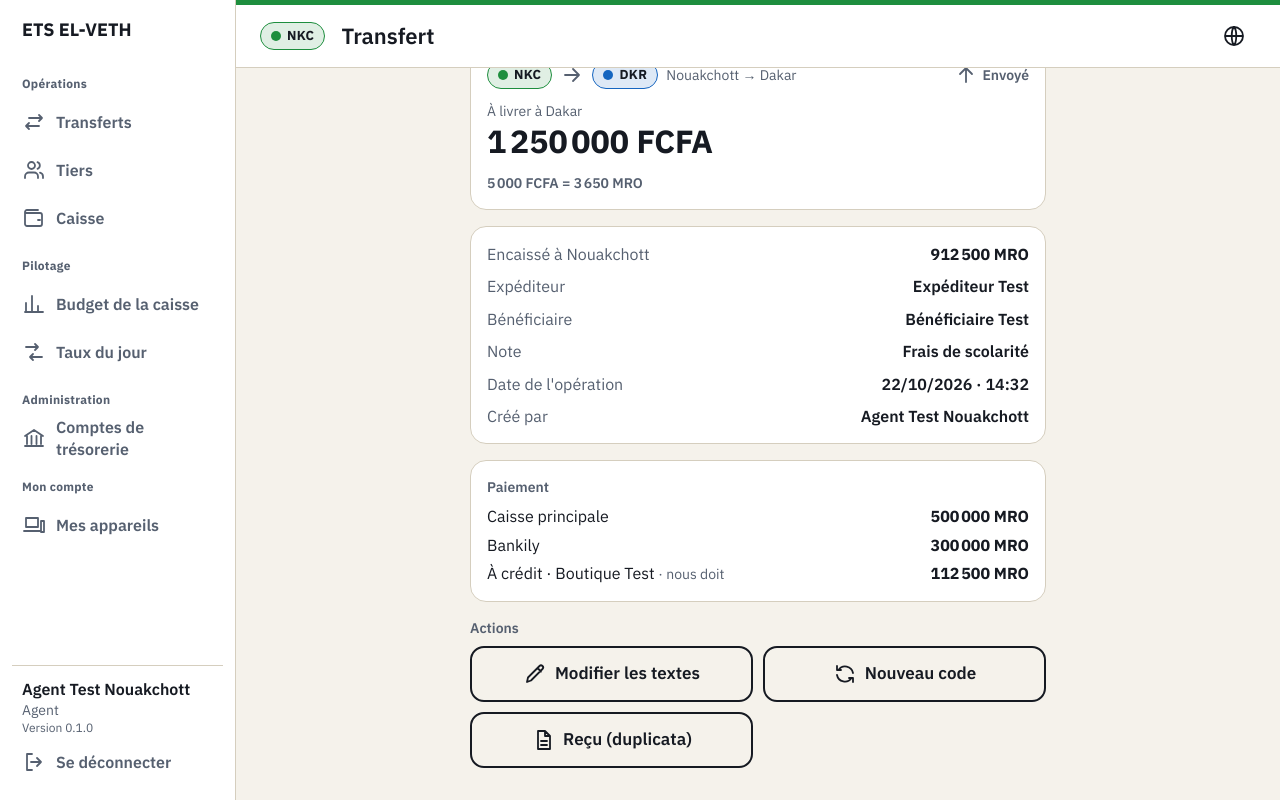
Test: Fiche d’un transfert — Agent de l’agence d’envoi › envoie le duplicata du reçu, sans code
The width and height of the screenshot is (1280, 800).
(page scrolled)
Click the button "Reçu (duplicata)" at (612, 740), box [470,712,753,768]
(page scrolled)
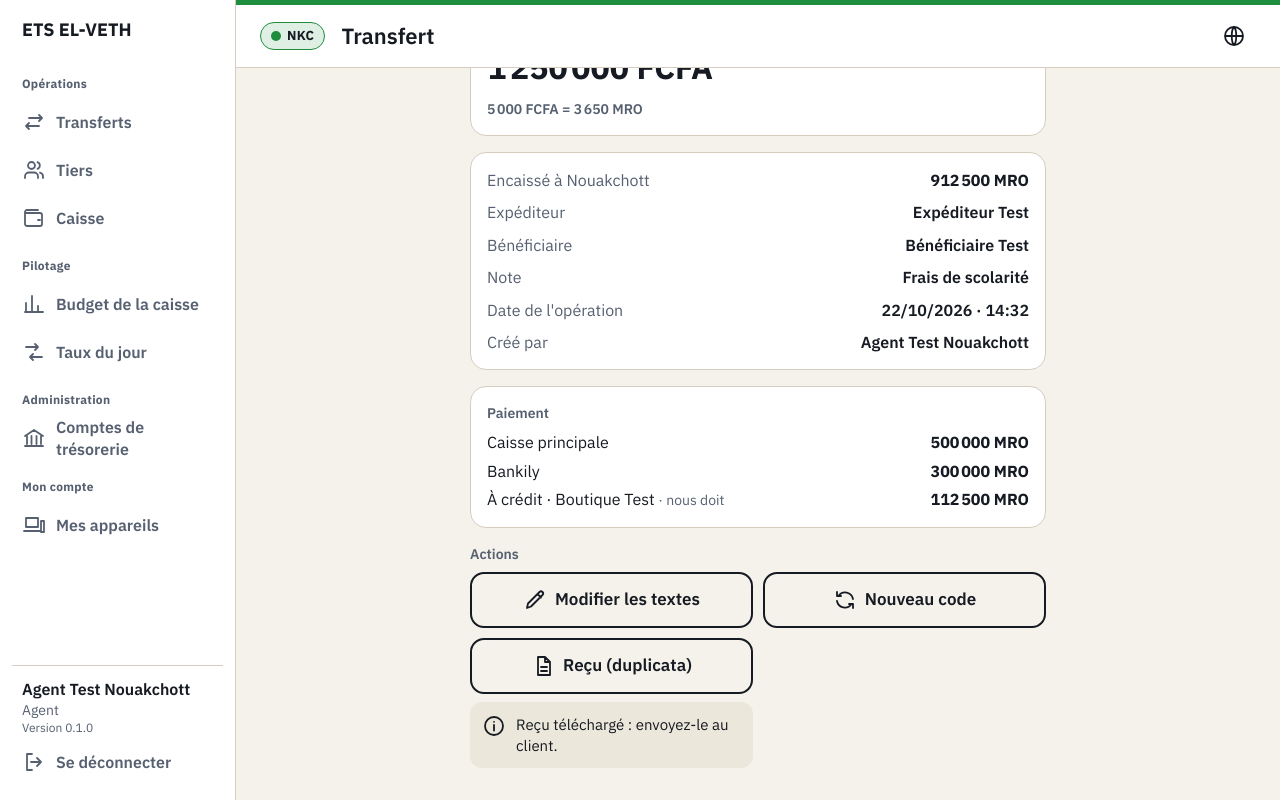
Check: the text "Reçu téléchargé : envoyez-le au client." is shown, box [516,714,741,756]
